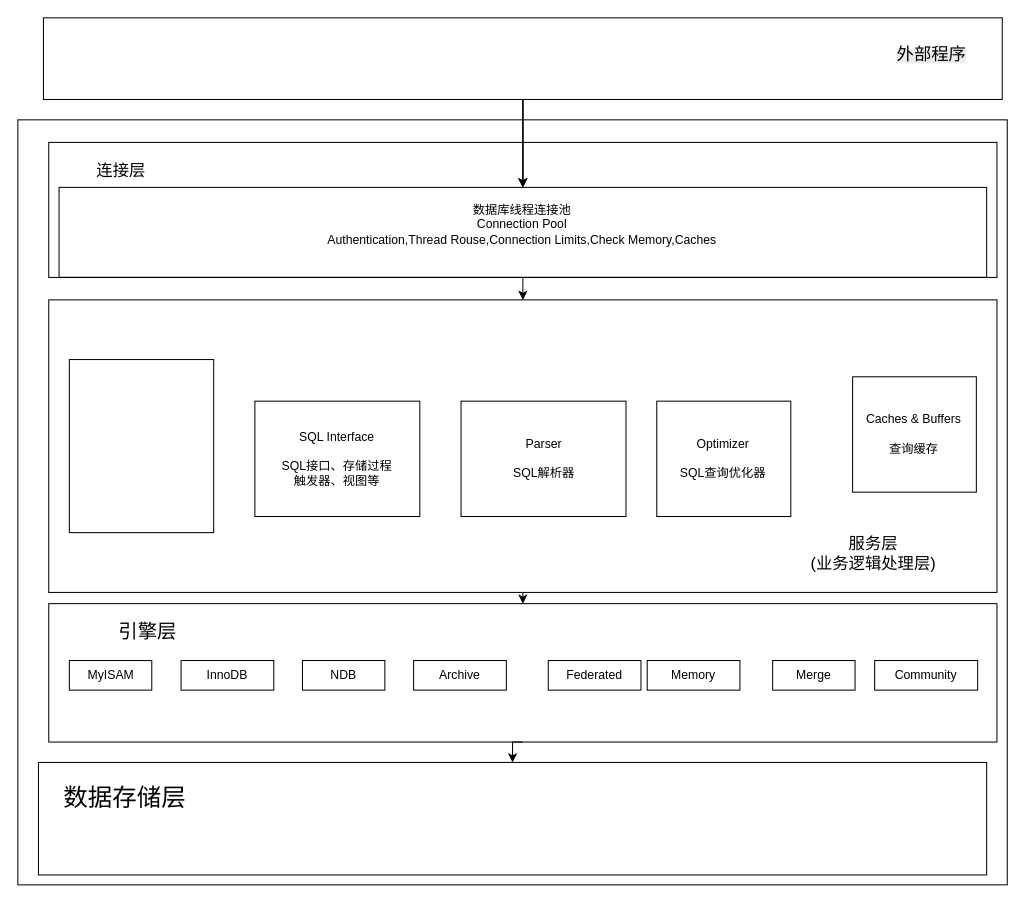
This 1025x903 diagram has some shape labels left out. Here are the shapes that lost their labels. From the top down, the box of each, then its label:
(42, 17, 1002, 99): JDBC、OBDC、.NET、PHP、Port、Python、Ruby、Cobol等等都可以与mysql进行连接 统称为外部程序
(68, 359, 214, 533): Management Services Utilities 系统管理和控制工具 (备份、容灾)
(37, 761, 987, 875): File System || Files & Logs 实际上的物理数据存储层
